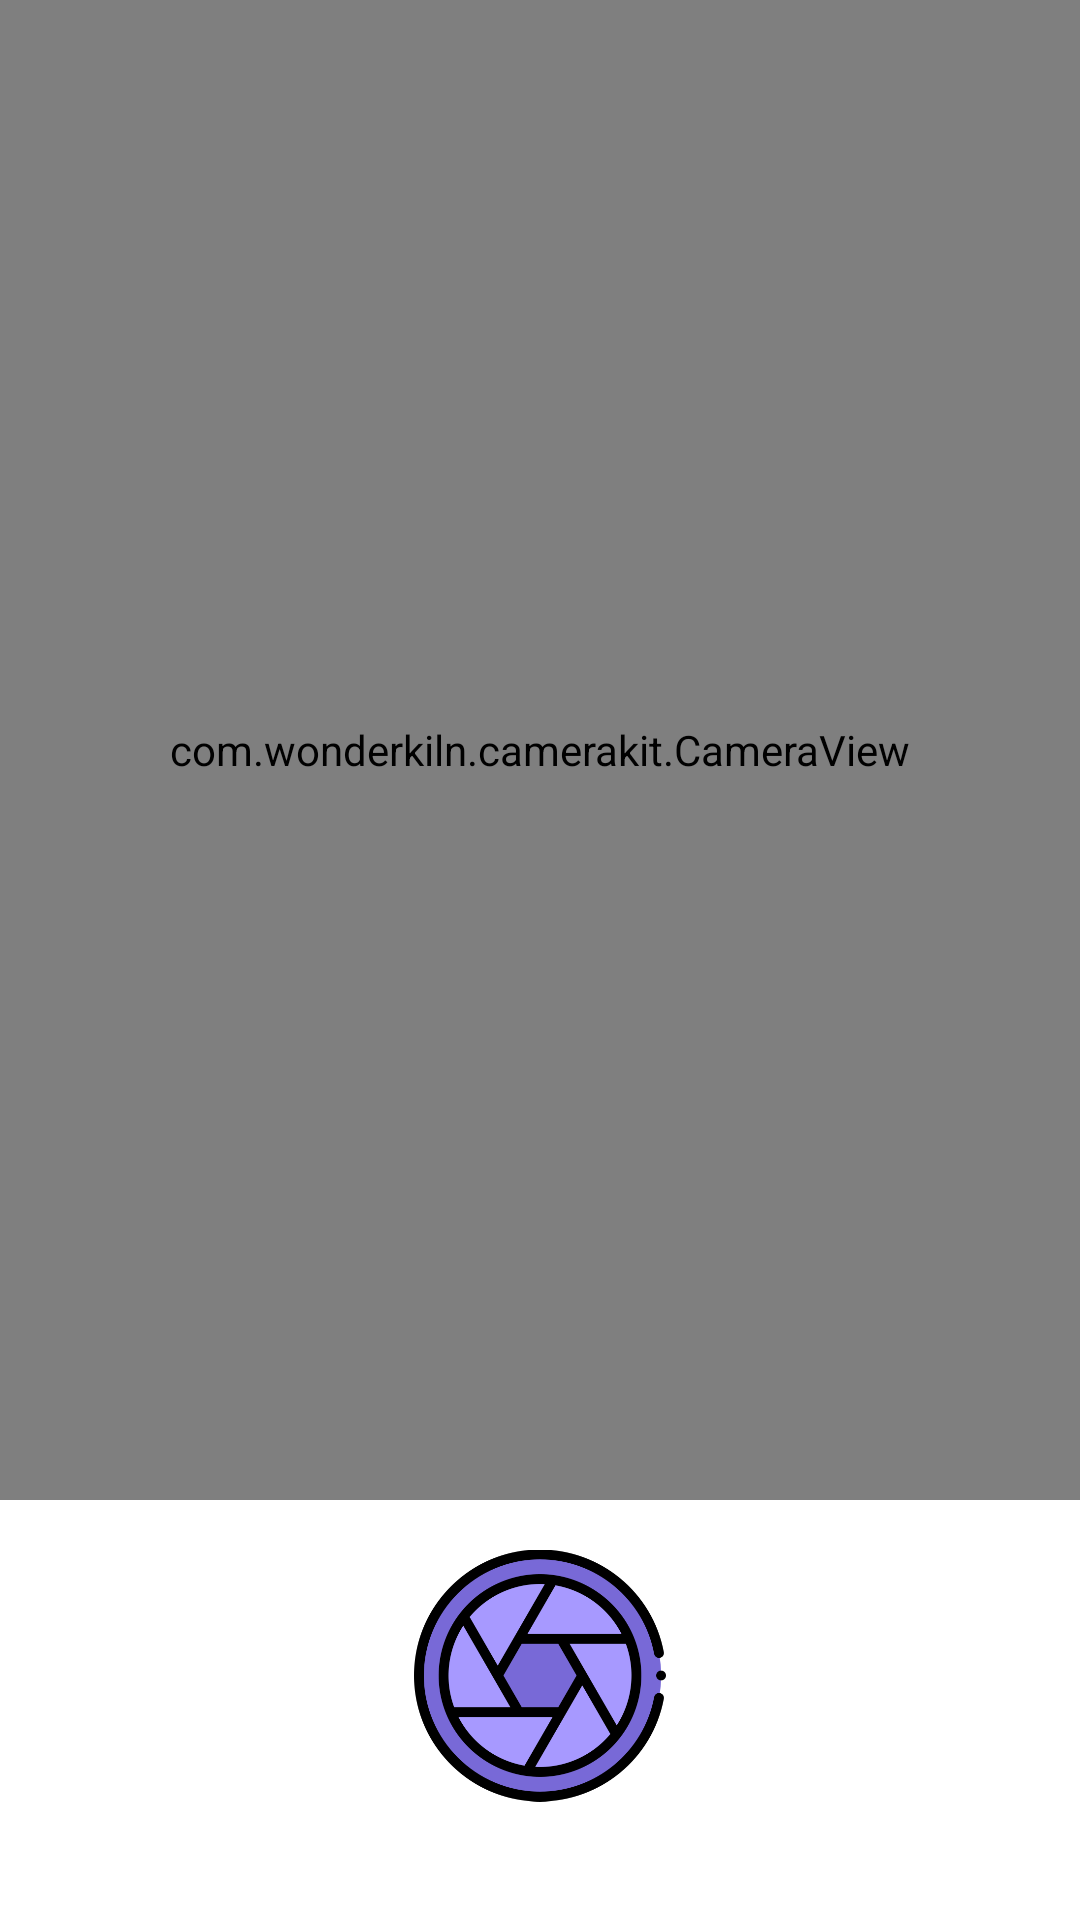

Named icons in this screenshot (1080×1920) and their centers, (x,y):
photography: (540,1676)
